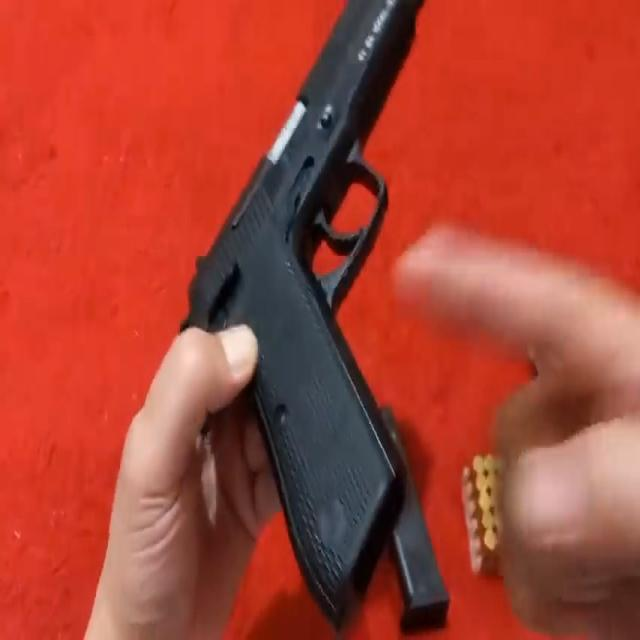handgun: (177, 7, 424, 640)
